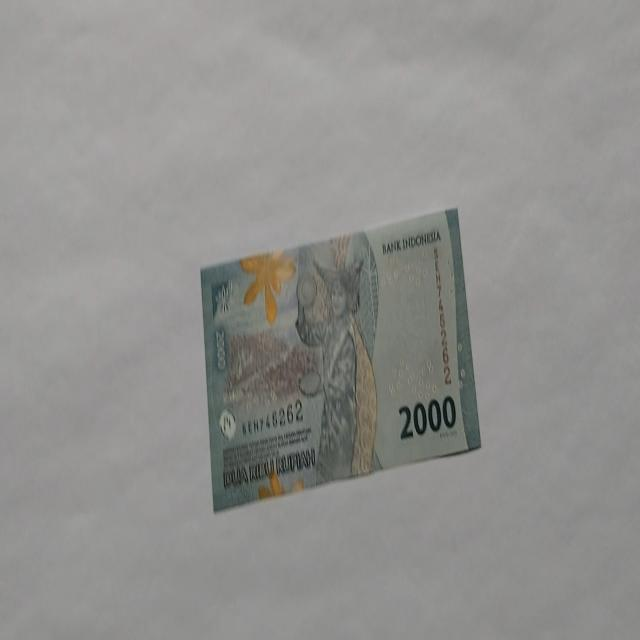dua ribu rupiah: (198, 204, 482, 513), (294, 234, 378, 486)
